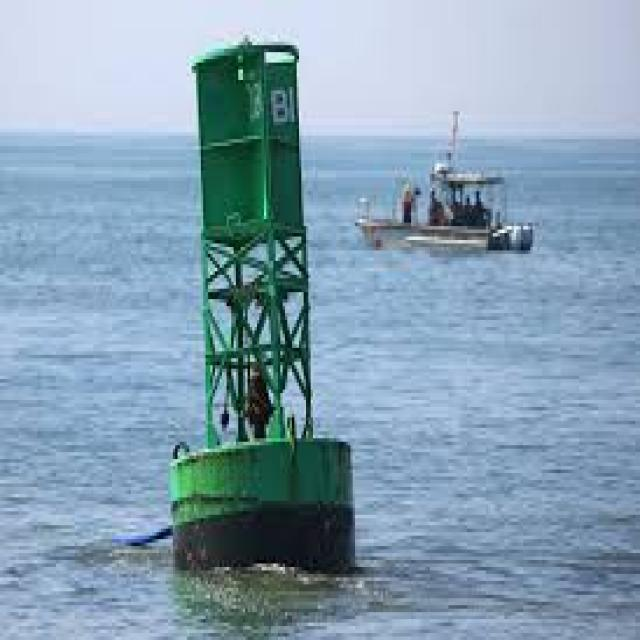marque: (159, 18, 370, 588)
